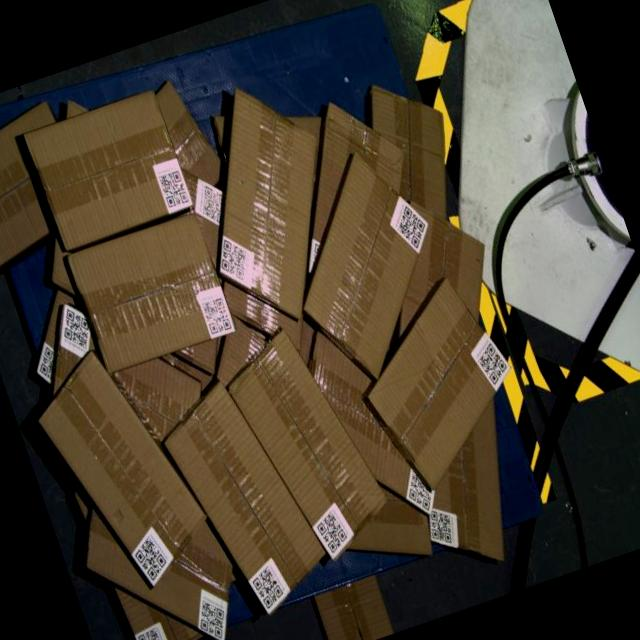box: (164, 67, 372, 340), (21, 331, 223, 606), (260, 135, 471, 393), (150, 365, 339, 629), (215, 313, 401, 575), (338, 265, 541, 500), (67, 210, 237, 374), (23, 88, 194, 251)
